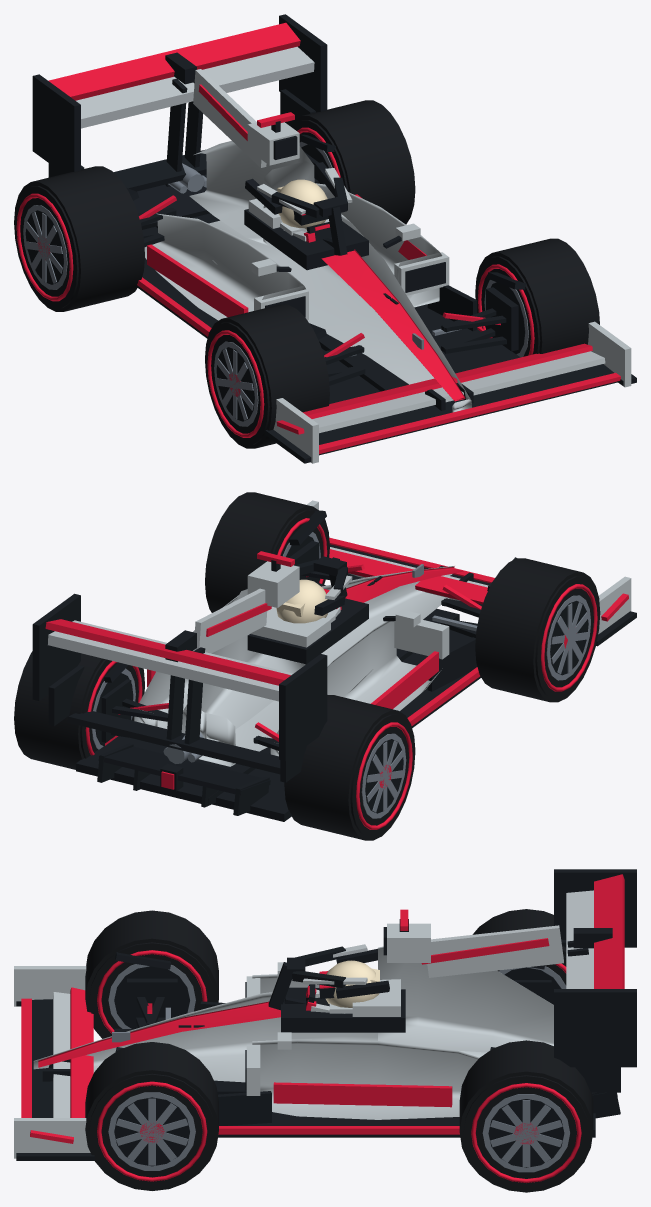
The model's file is apex-07.glb.
3 views of the same model, one above another, from view 1: azimuth 30°, elevation 25°; view 2: azimuth 150°, elevation 25°; view 3: azimuth 270°, elevation 25° (orthographic).
Visible parts, largest first — view 1: formula-7, wheel (×4); view 2: formula-7, wheel (×4); view 3: formula-7, wheel (×4).
Part boxes in pixels (x1,y1,x2,y2): formula-7: (32,14,636,463); wheel (×4): (14,100,599,448); formula-7: (32,500,636,821); wheel (×4): (14,492,600,840); formula-7: (14,869,636,1160); wheel (×4): (85,909,593,1192).
Bounding box in the file's own units: 3.41 × 1.85 × 5.41.
